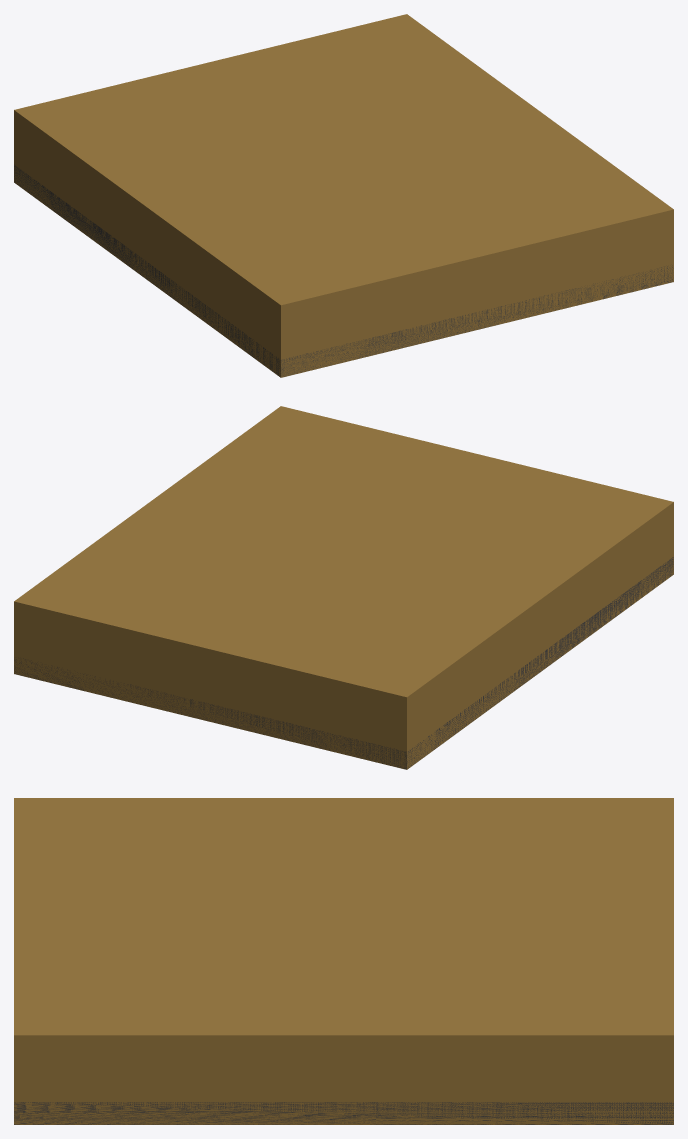
The model's file is cab_roof_front.glb.
3 renders of one model, top to bottom at view 1: azimuth 30°, elevation 25°; view 2: azimuth 150°, elevation 25°; view 3: azimuth 270°, elevation 25°, orthographic. The views are drawn at different scales.
Parts seen in each view (by area): view 1: cab_roof_front; view 2: cab_roof_front; view 3: cab_roof_front.
Boxes of the visible parts, box(x1,y1,x2,y2) form: cab_roof_front: box(14, 14, 673, 377); cab_roof_front: box(14, 406, 673, 769); cab_roof_front: box(14, 798, 673, 1124).
Bounding box in the file's own units: 0.34 × 0.06 × 0.4.
